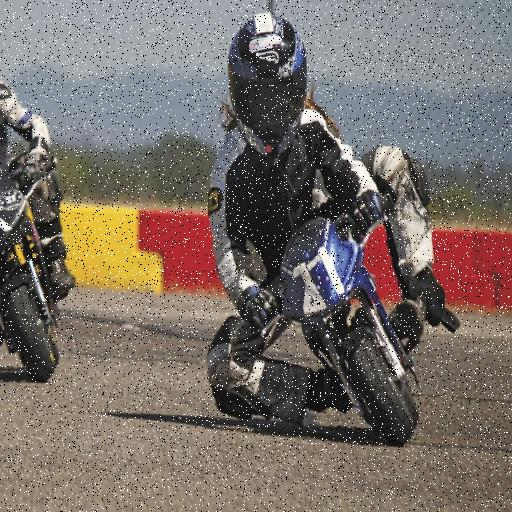Helmet: (228, 13, 307, 155)
Motor: (261, 218, 419, 444), (0, 156, 58, 381)
